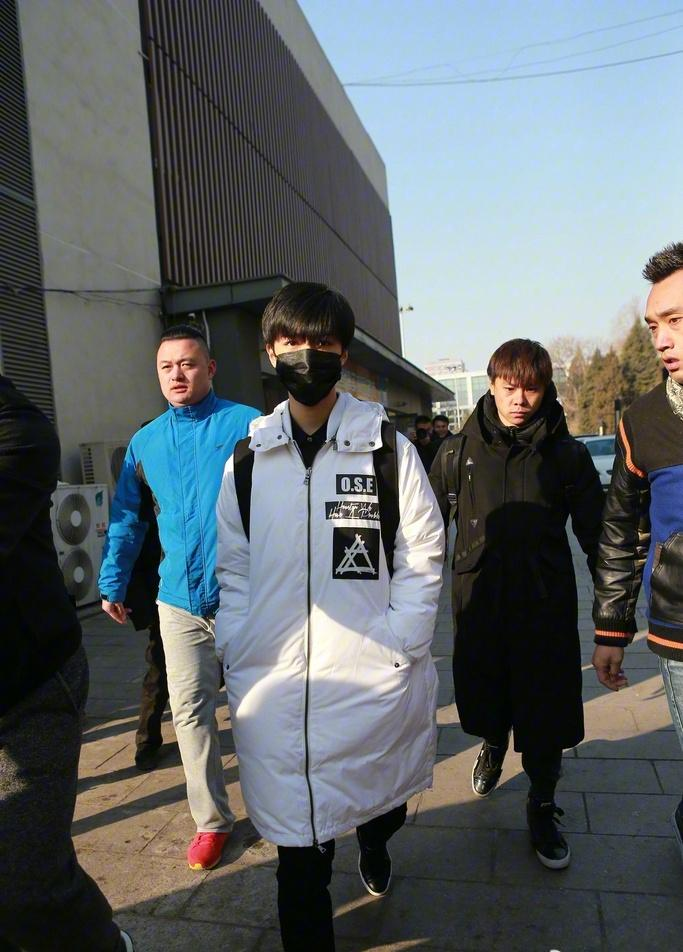face: (645, 272, 682, 386), (157, 337, 205, 407), (495, 367, 539, 429)
face_mask: (278, 324, 338, 405)
